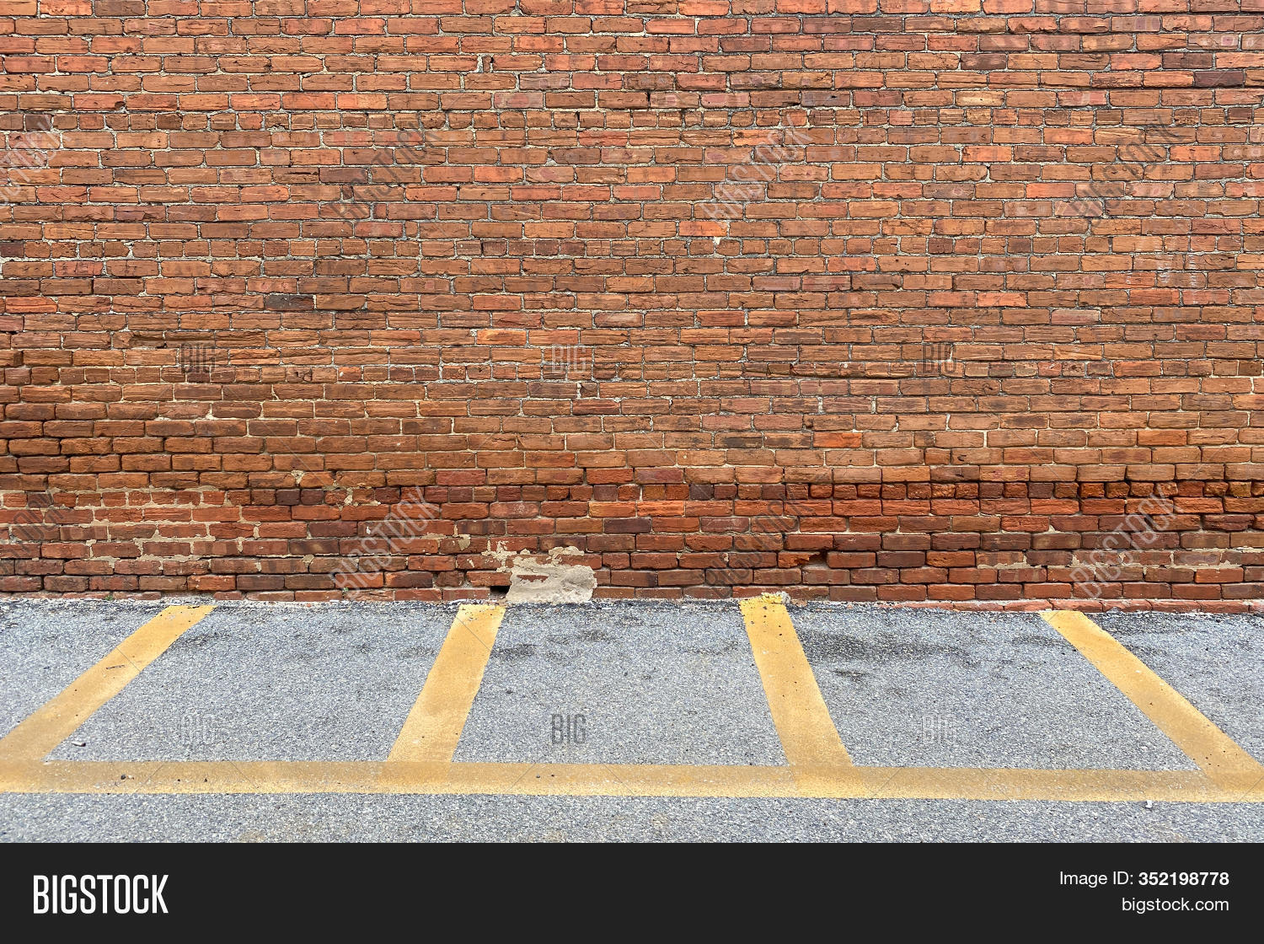Wall: (11, 8, 1258, 602)
